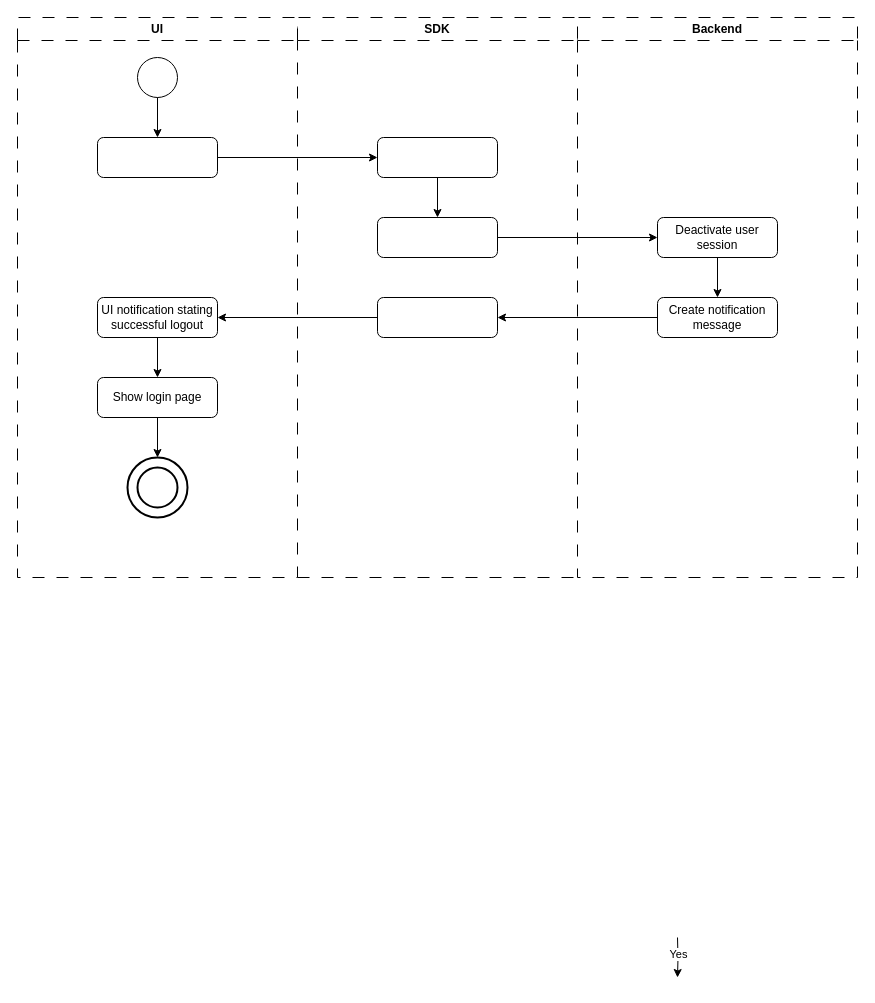
The diagram is 875 pixels wide and 1003 high, and some of its shapes have lost their labels. Each missing label, with the centre of its shape:
Create logout message: the point at 437,157
Decode notification message: the point at 437,317
Press logout button: the point at 157,157
Send logout message: the point at 437,237
